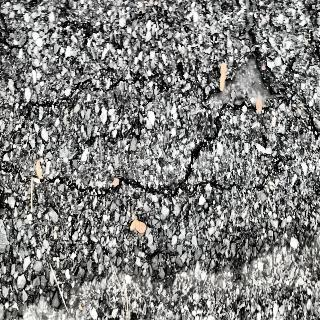crack: (23, 76, 263, 203)
